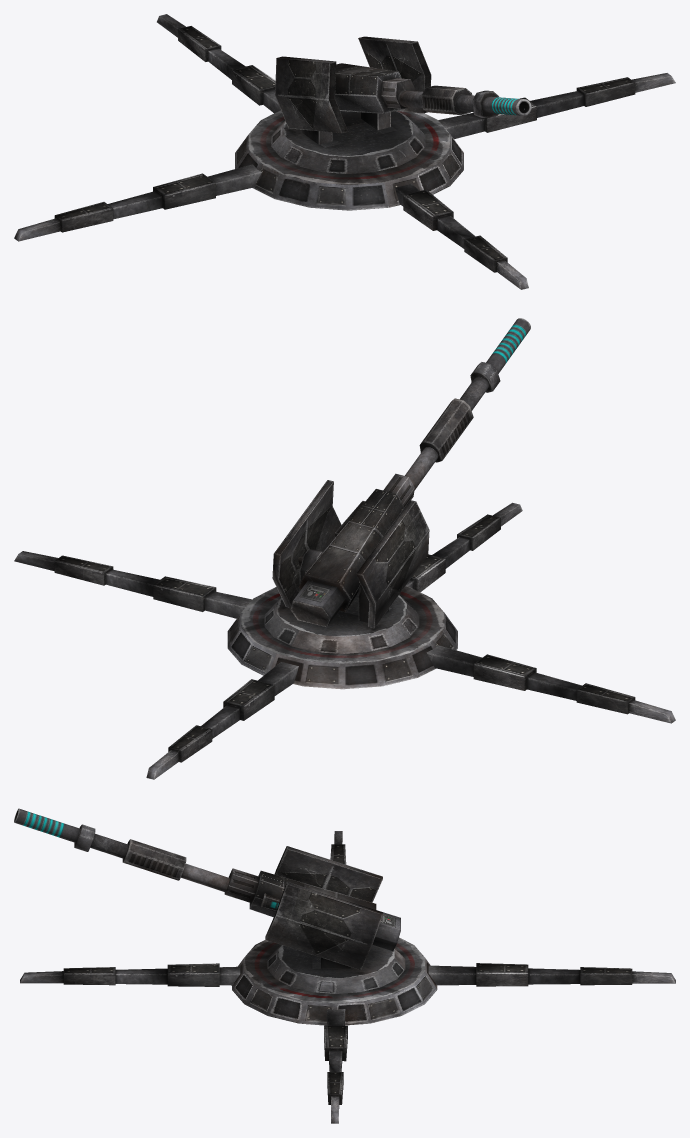
Rendered from Artillery.obj.
3 renders of one model, top to bottom at view 1: azimuth 30°, elevation 25°; view 2: azimuth 150°, elevation 25°; view 3: azimuth 270°, elevation 25°, orthographic. The views are drawn at different scales.
Visible parts, largest first — view 1: Artillery.obj; view 2: Artillery.obj; view 3: Artillery.obj.
Boxes of the visible parts, x1,y1,x2,y2 form: Artillery.obj: (14,14,675,289); Artillery.obj: (14,318,675,779); Artillery.obj: (14,808,675,1123).
Bounding box in the file's own units: 7.05 × 1.97 × 6.87.
1 material, 1 textured.
